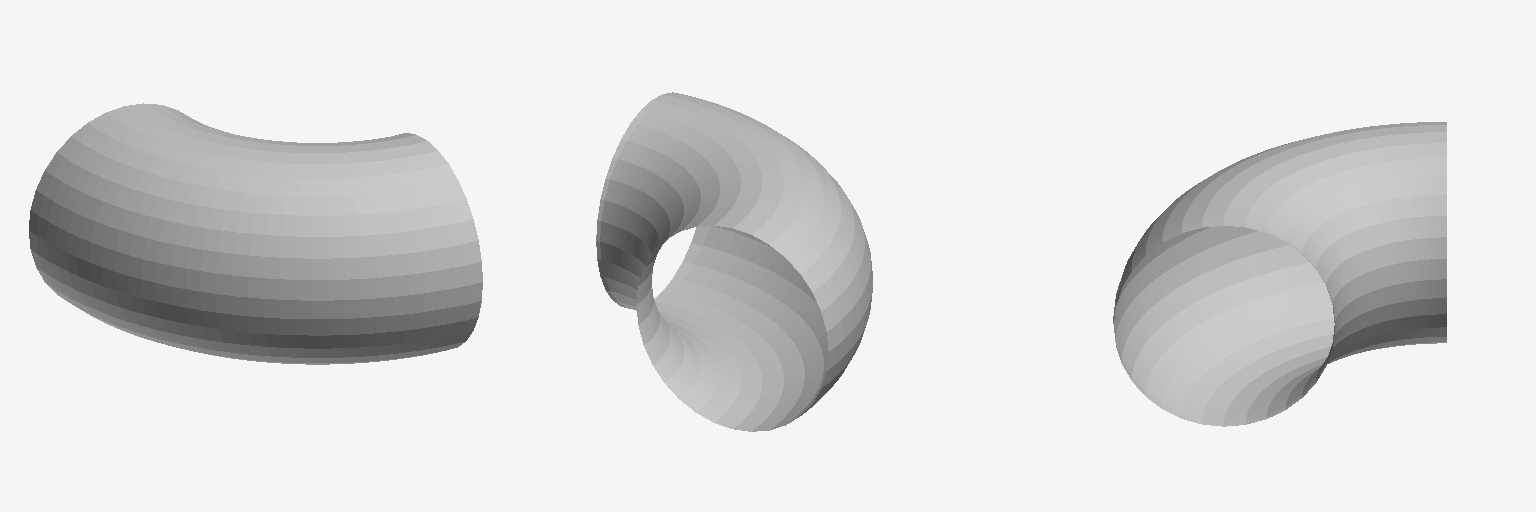
Rendered from bentCYlinder2.obj.
The picture shows the model from 3 angles: view 1: azimuth 30°, elevation 25°; view 2: azimuth 150°, elevation 25°; view 3: azimuth 270°, elevation 25°; orthographic projection.
Visible parts, largest first — view 1: Cylinder.002_Cylinder.005; view 2: Cylinder.002_Cylinder.005; view 3: Cylinder.002_Cylinder.005.
Boxes of the visible parts, box(x1,y1,x2,y2) form: Cylinder.002_Cylinder.005: box(29, 103, 482, 364); Cylinder.002_Cylinder.005: box(596, 92, 872, 431); Cylinder.002_Cylinder.005: box(1113, 122, 1446, 426).
Size of the model in its own units: 0.7495 by 0.5 by 0.7523.